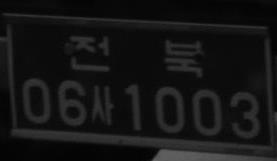0: (154, 85, 185, 135), (191, 87, 222, 137), (21, 77, 51, 123)
1: (121, 83, 147, 129)
3: (230, 90, 260, 138)
6: (57, 79, 86, 127)
사: (89, 85, 114, 126)
전북_D: (68, 34, 202, 77)
